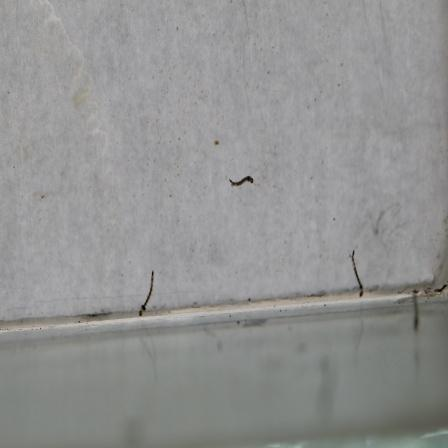Jentik-Nyamuk: (137, 269, 158, 319), (349, 249, 365, 298), (226, 173, 257, 190)
